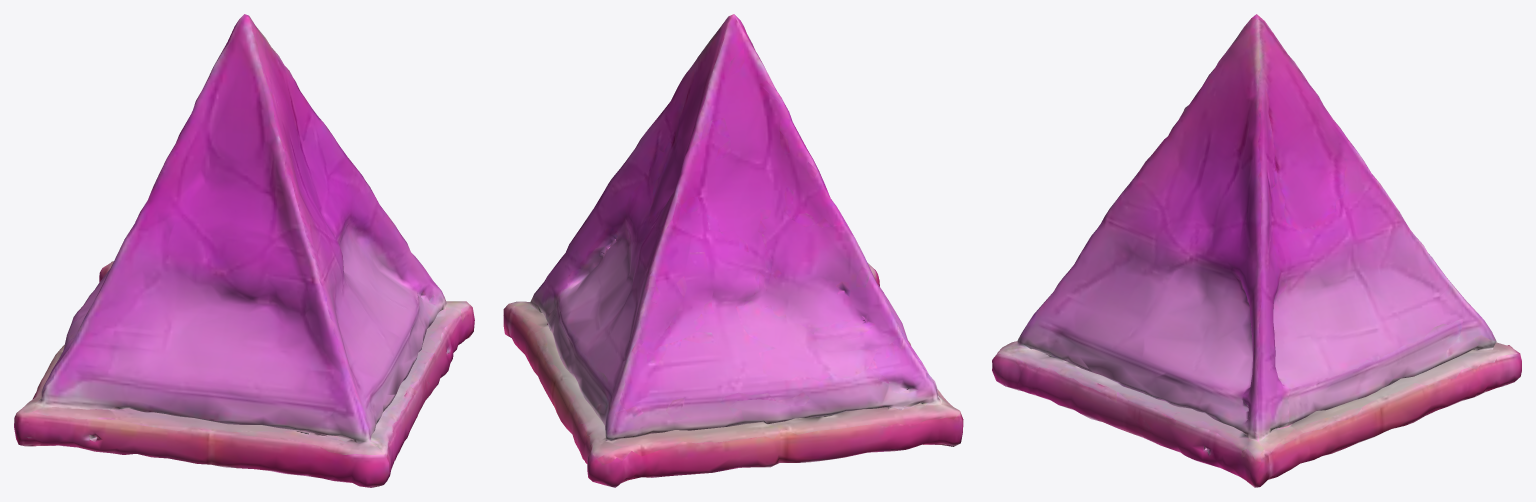
Rendered from prismatica.glb.
The picture shows the model from 3 angles, left to right: view 1: azimuth 30°, elevation 25°; view 2: azimuth 150°, elevation 25°; view 3: azimuth 270°, elevation 25°; orthographic projection. The views are drawn at different scales.
Visible parts, largest first — view 1: mesh; view 2: mesh; view 3: mesh.
Boxes of the visible parts, x1=… form: mesh: x1=14, y1=14, x2=474, y2=487; mesh: x1=503, y1=14, x2=963, y2=487; mesh: x1=992, y1=14, x2=1521, y2=487.
Size of the model in its own units: 1.57 by 1.24 by 1.62.
1 material, 1 textured.
